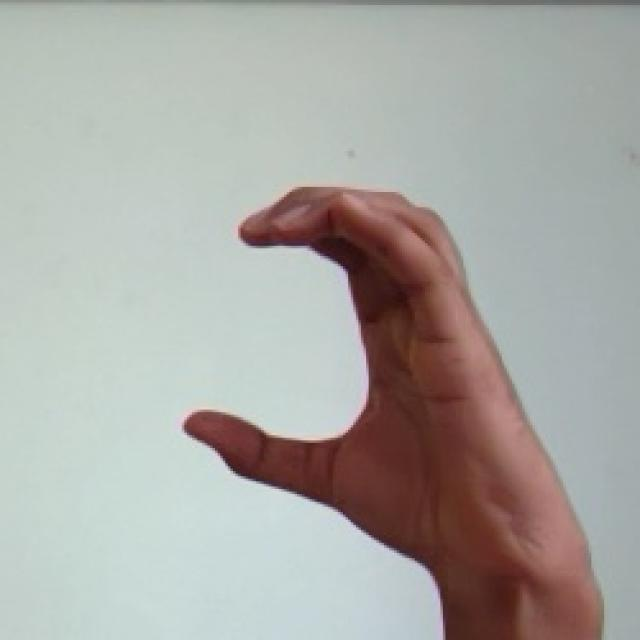Alphabet-C: (0, 4, 640, 640), (184, 187, 604, 640)
